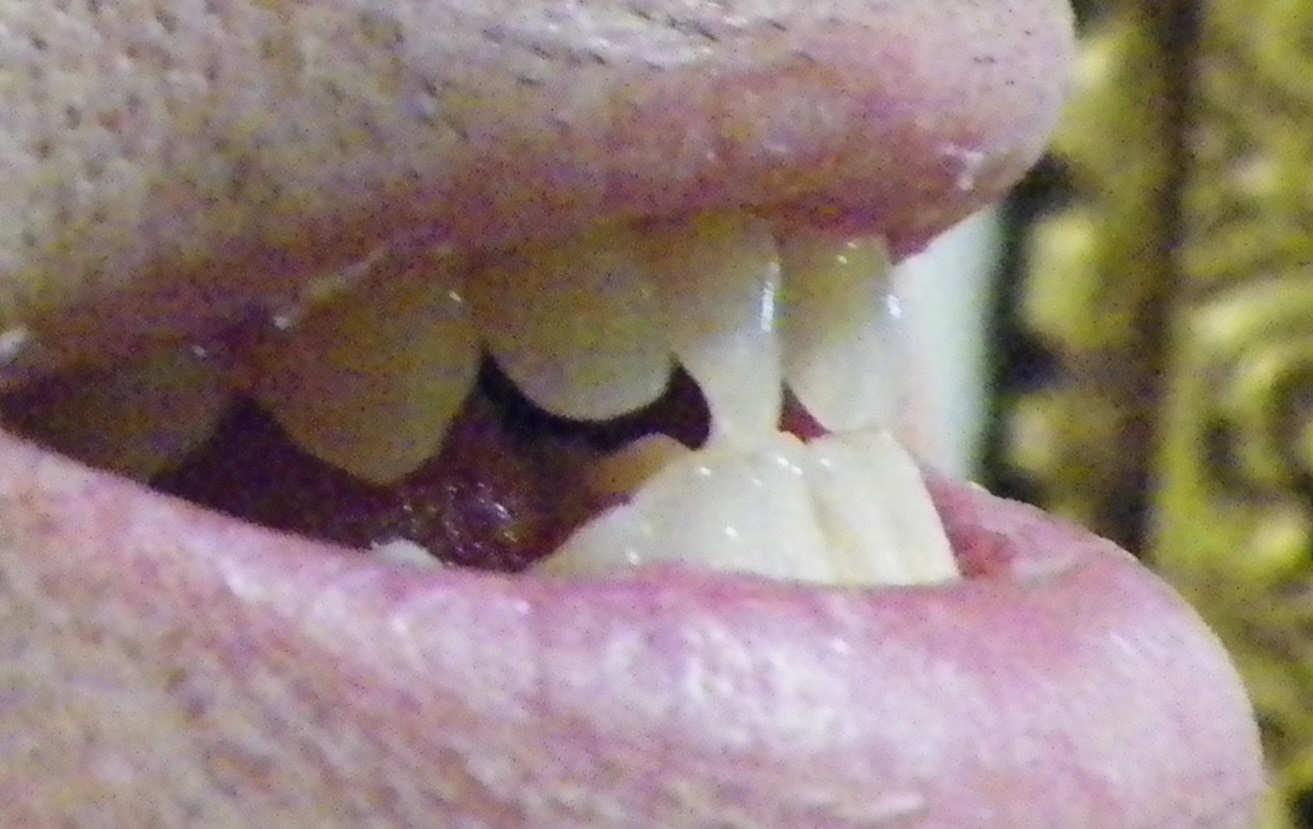boca: (73, 204, 959, 573)
